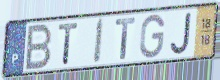B: (23, 22, 54, 73)
G: (138, 13, 166, 60)
I: (92, 17, 105, 66)
J: (169, 11, 193, 56)
T: (57, 21, 80, 66), (115, 17, 136, 62)
